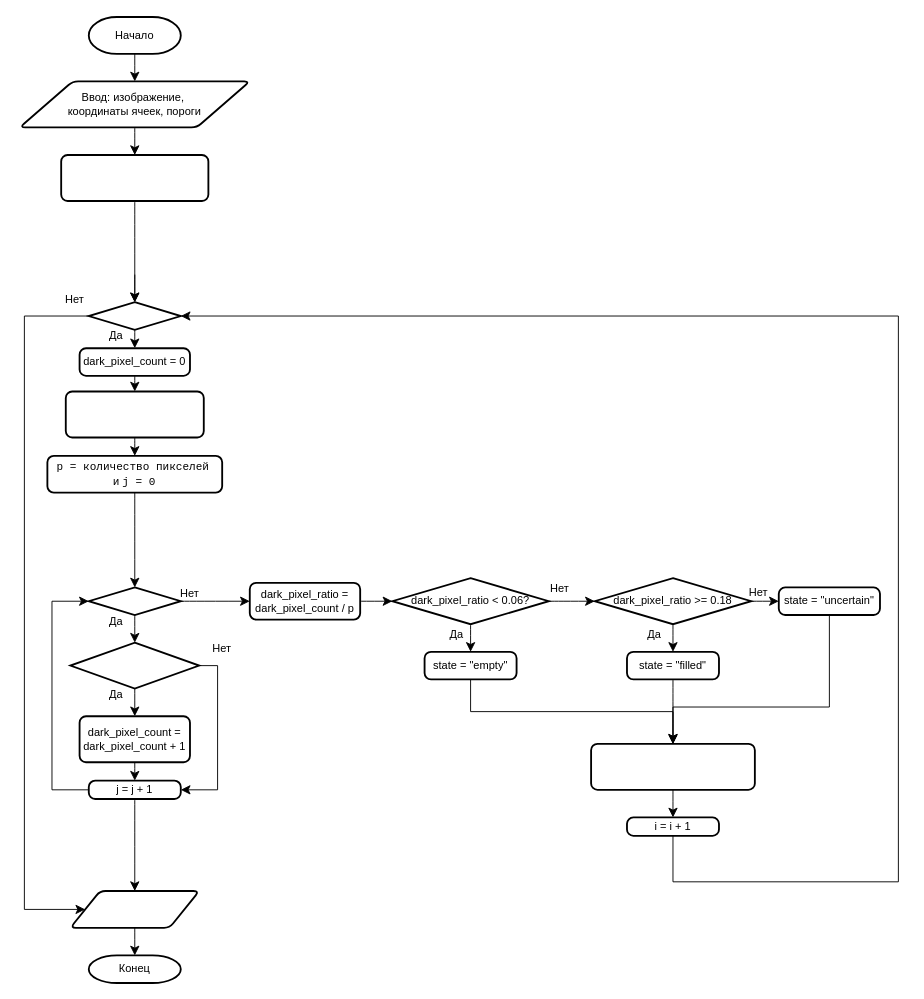
Some shapes in this 924 by 999 pixel diagram are drawn without their labels. The centre of each missing label's shape, as x and y in pixels:
cell_id = cells[i].cell_id pixels = пиксели области ячейки i: [134,414]
i < n?: [134,315]
j < p?: [134,600]
pixels[j] < 150?: [134,665]
results = [] i = 0 n = количество ячеек: [134,177]
results.append((cell_id, state)): [672,766]
Вывод: results: [134,909]
